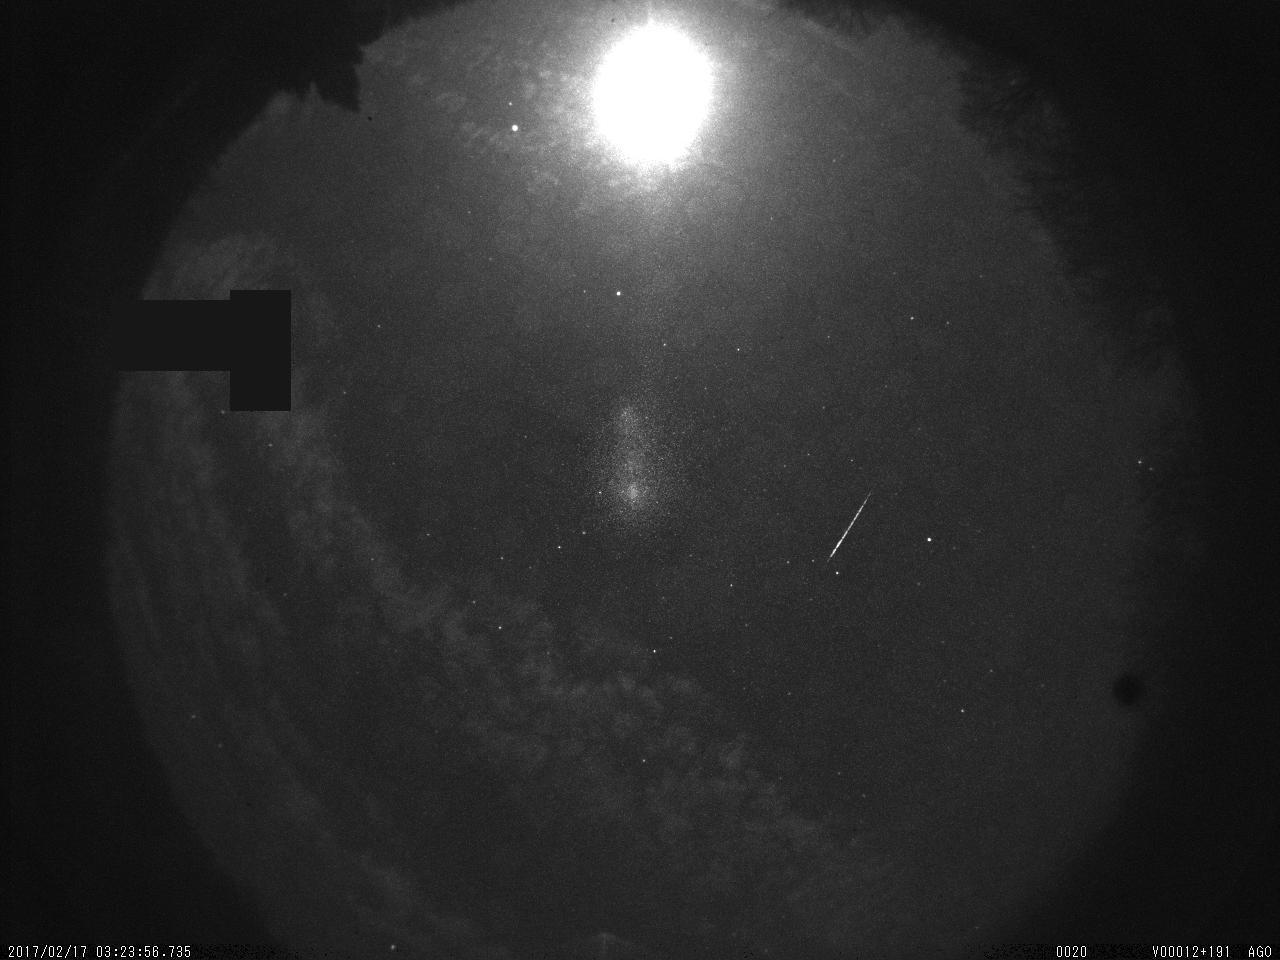meteor: (814, 486, 887, 568)
